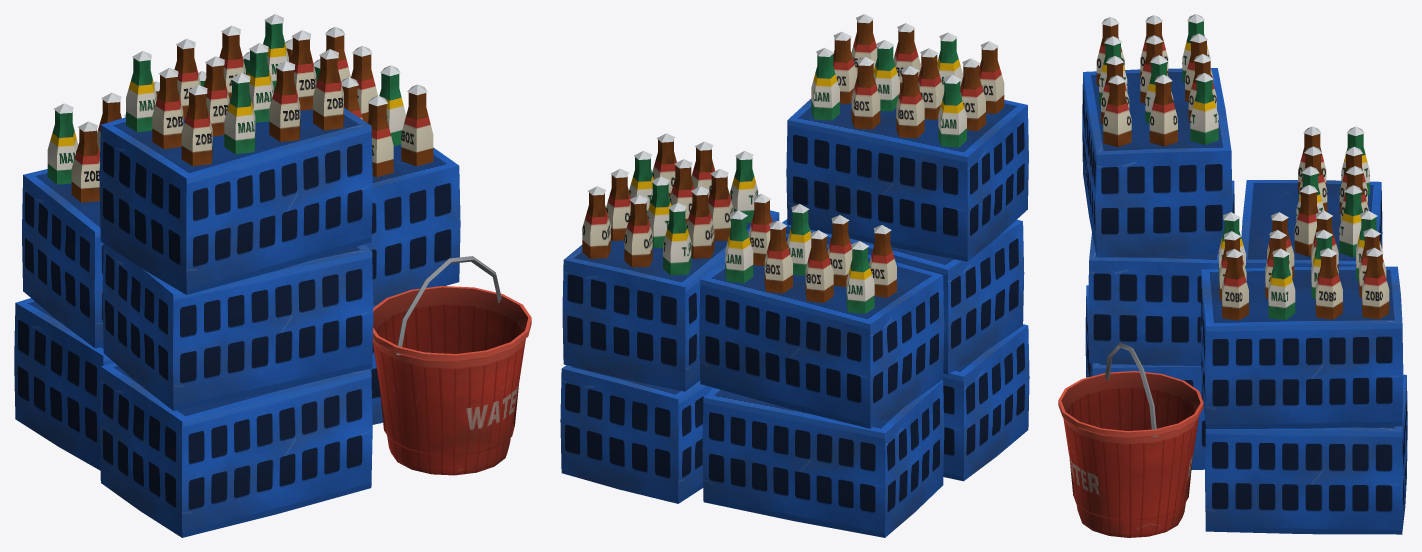
The model's file is prop_soft_kegs-DSuyVNTb.glb.
3 views of the same model, side by side, from view 1: azimuth 30°, elevation 25°; view 2: azimuth 150°, elevation 25°; view 3: azimuth 270°, elevation 25° (orthographic). The views are drawn at different scales.
Visible parts, largest first — view 1: prop_soft_kegs_body; view 2: prop_soft_kegs_body; view 3: prop_soft_kegs_body.
Boxes of the visible parts, bbox=[...] form: prop_soft_kegs_body: bbox=[14, 14, 531, 537]; prop_soft_kegs_body: bbox=[560, 14, 1029, 537]; prop_soft_kegs_body: bbox=[1058, 14, 1407, 537].
Size of the model in its own units: 0.8621 by 0.972 by 0.797.
1 material, 1 textured.
